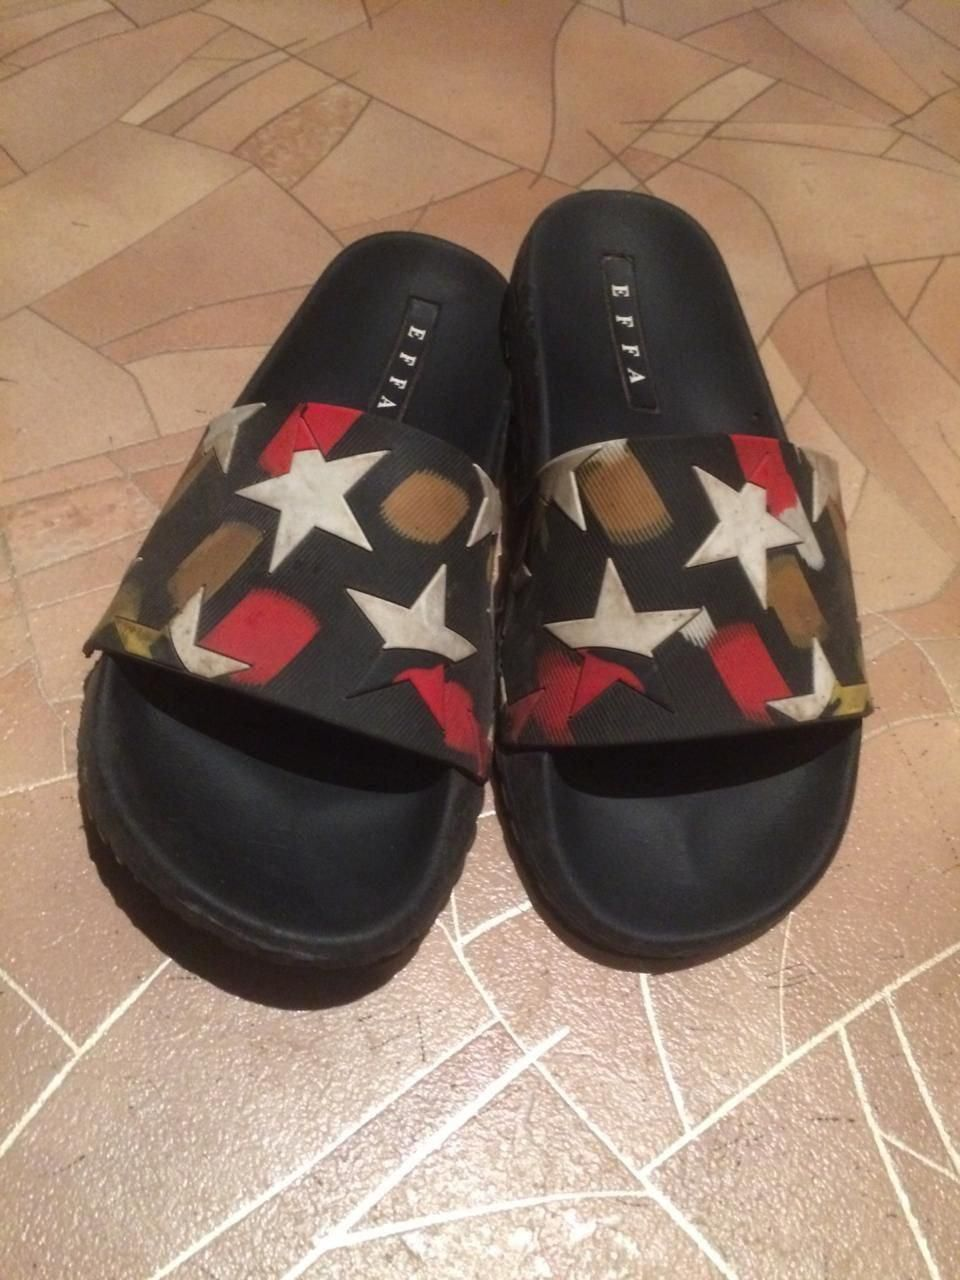clothes: (72, 190, 882, 1020)
